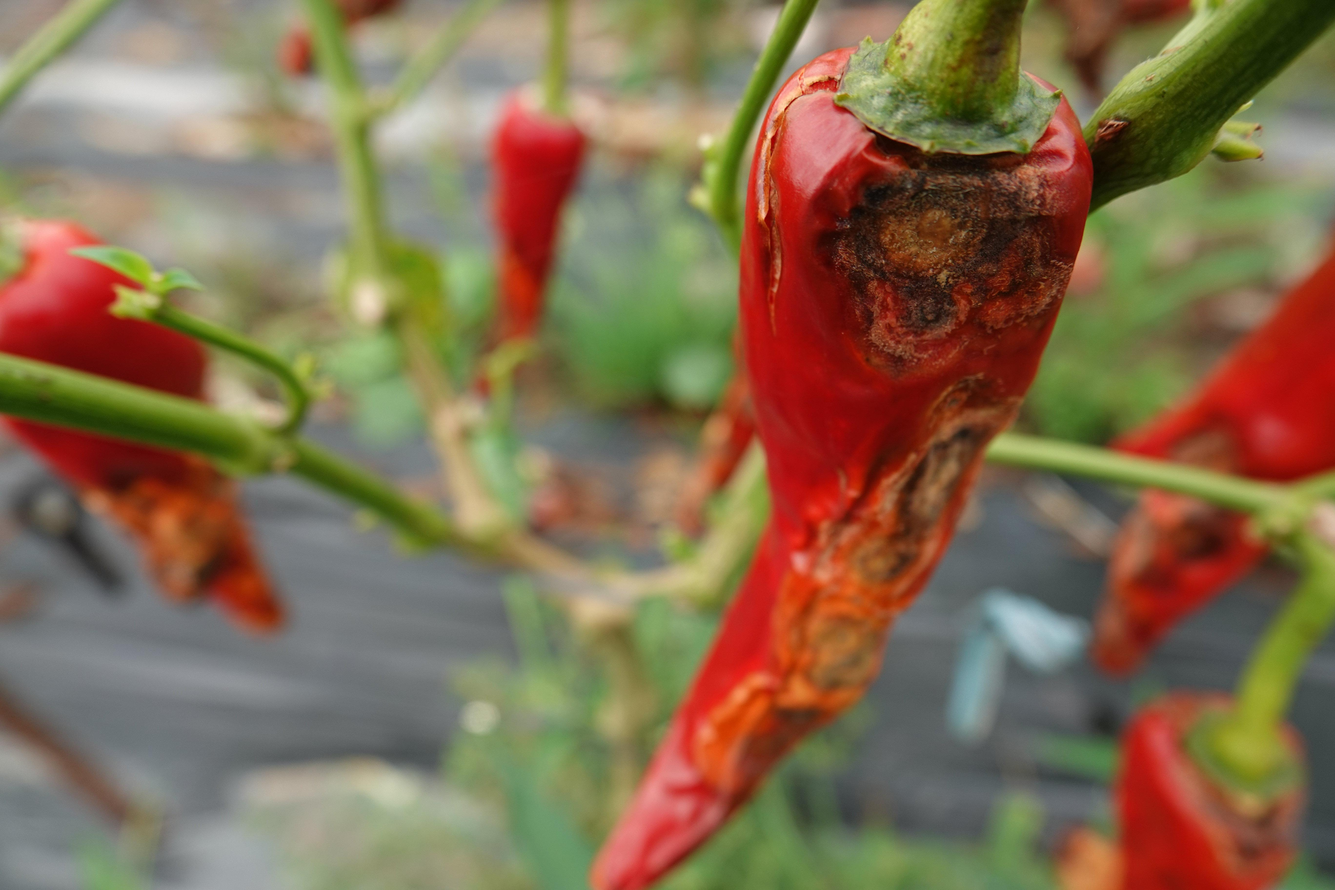Busuk Buah Antraknosa: (586, 4, 1097, 887)
